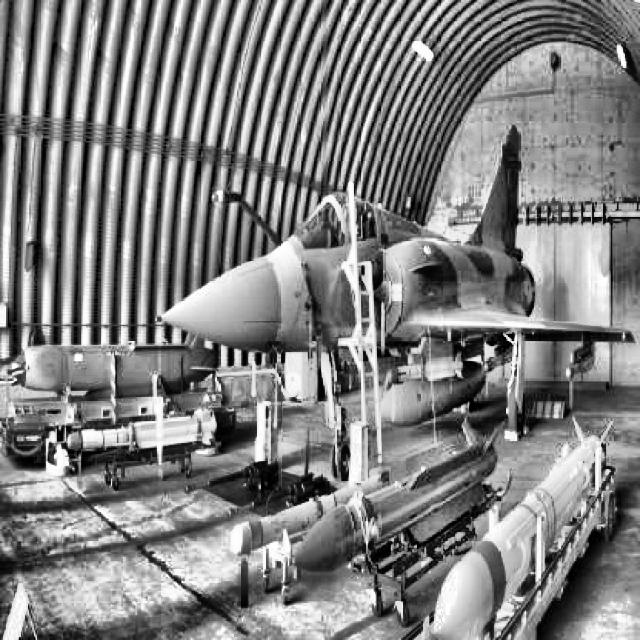Mirage2000: (155, 121, 634, 478)
